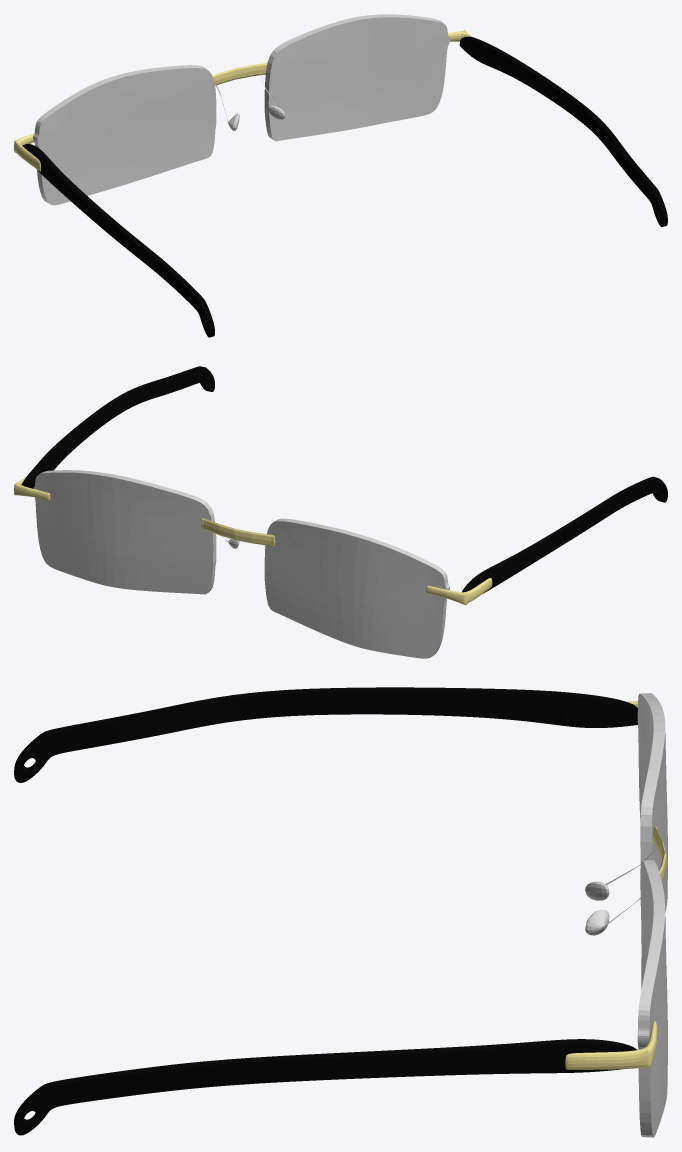
File: norimgoldnblack.glb
The picture shows the model from 3 angles, top to bottom: view 1: azimuth 30°, elevation 25°; view 2: azimuth 150°, elevation 25°; view 3: azimuth 270°, elevation 25°; orthographic projection. The views are drawn at different scales.
Parts seen in each view (by area): view 1: glasstransparent, handleblack, cornergold, Plane; view 2: glasstransparent, handleblack, cornergold, Plane; view 3: handleblack, glasstransparent, cornergold, cushiontranstarent.
Boxes of the visible parts, left/top/right/bottom form: glasstransparent: left=33, top=14, right=449, bottom=205; handleblack: left=22, top=36, right=667, bottom=337; cornergold: left=14, top=30, right=471, bottom=171; Plane: left=212, top=63, right=267, bottom=85; glasstransparent: left=33, top=470, right=449, bottom=658; handleblack: left=21, top=366, right=667, bottom=593; cornergold: left=14, top=477, right=492, bottom=605; Plane: left=201, top=518, right=275, bottom=546; handleblack: left=14, top=687, right=637, bottom=1135; glasstransparent: left=637, top=693, right=667, bottom=1137; cornergold: left=565, top=701, right=657, bottom=1069; cushiontranstarent: left=585, top=847, right=657, bottom=935.
Size of the model in its own units: 3.55 by 0.7834 by 2.65.
